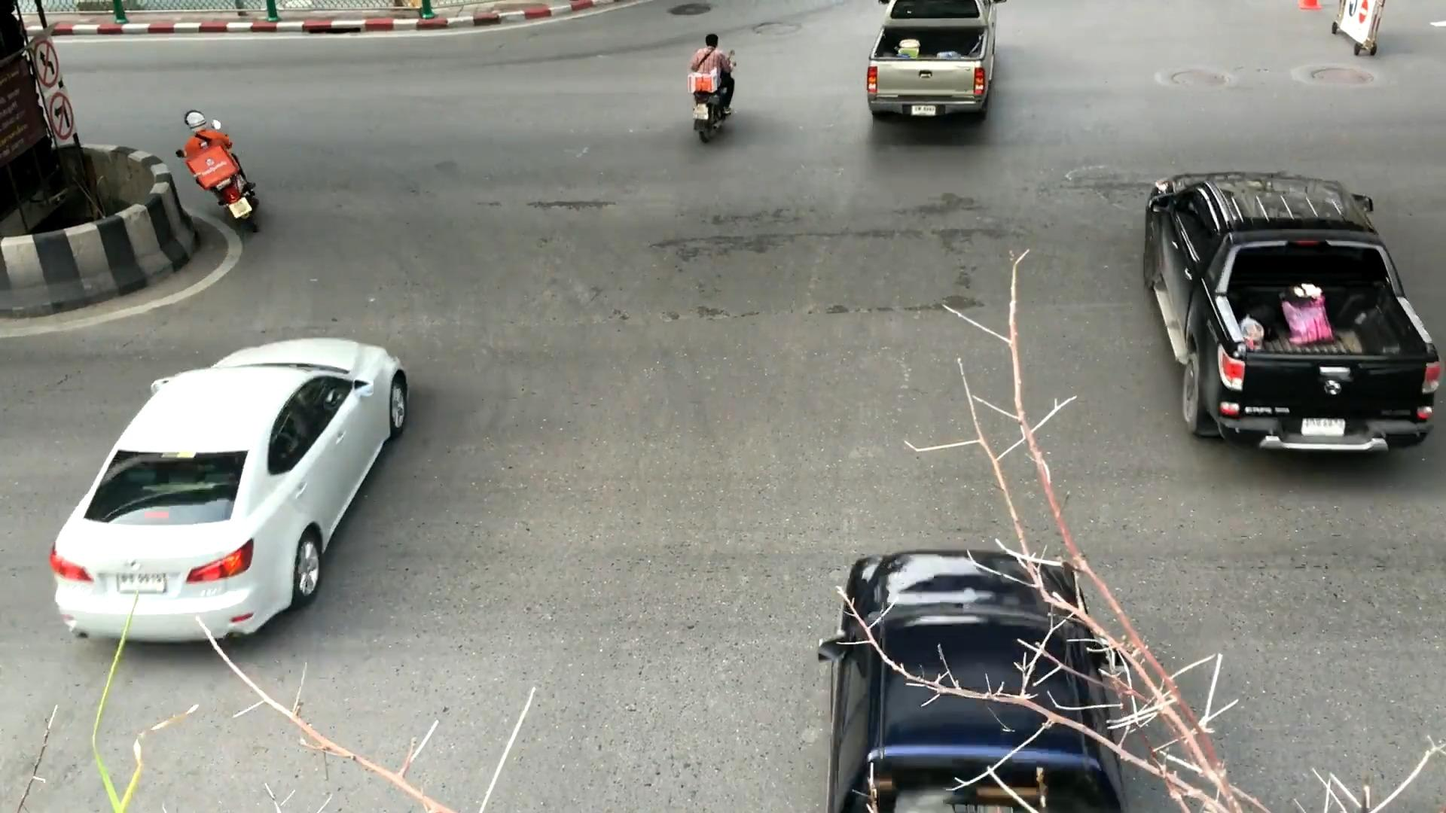driver: (175, 110, 260, 233), (688, 34, 737, 143)
helmet: (184, 109, 207, 133)
no-helmet: (705, 34, 718, 48)
